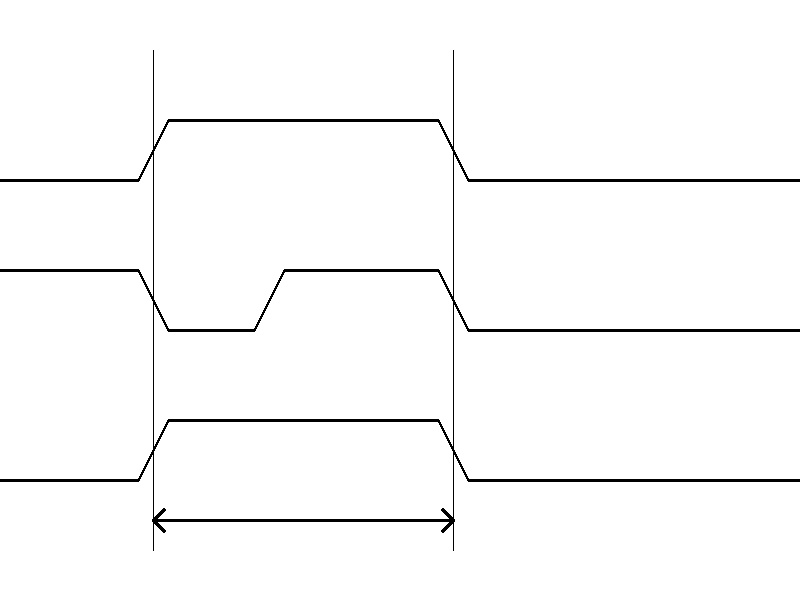double_arrow: (153, 505, 453, 535)
